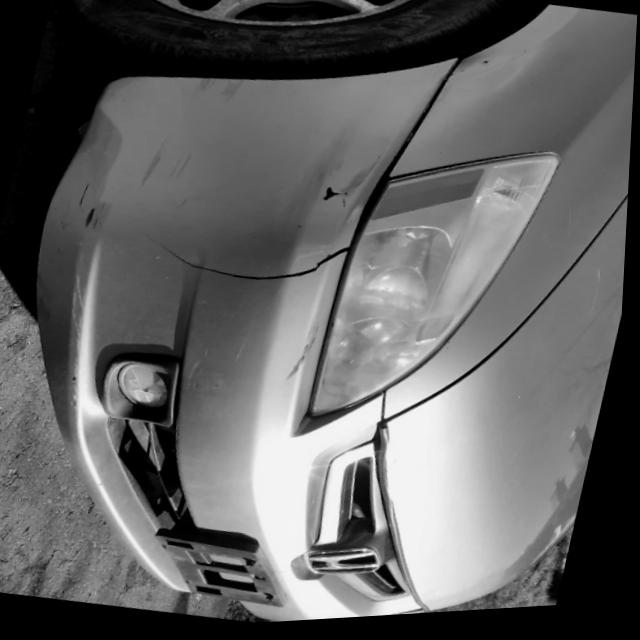Crack: (149, 239, 353, 283)
Dent: (451, 51, 531, 94)
Scratch: (281, 319, 324, 382), (136, 138, 164, 186), (199, 77, 245, 103), (168, 150, 193, 178), (321, 182, 348, 199), (76, 180, 91, 210), (82, 207, 94, 227), (342, 197, 347, 207)
